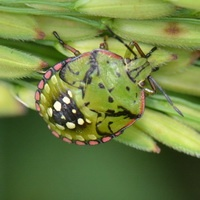insect: (35, 28, 182, 144)
